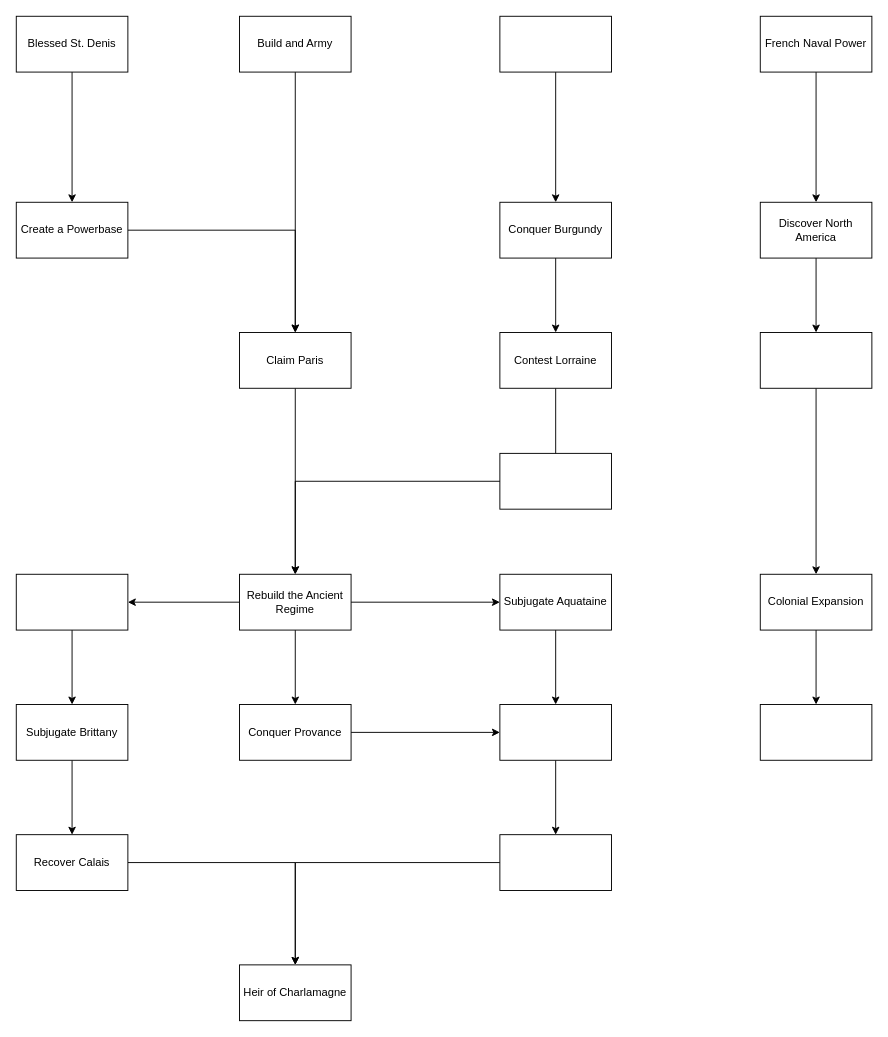
Image size: 888x1037. Some labels were removed from this diagram. The box of each missing label's shape, as (x1, y1, x2, y2) in pixels:
Annex Savoy: (499, 704, 611, 760)
Bases in North America: (759, 332, 872, 388)
Conquer Alsace: (499, 452, 611, 509)
Expand the State: (499, 15, 611, 72)
French East Indies: (759, 704, 872, 760)
Reclaim Normandy: (15, 573, 128, 630)
Spanish March: (499, 834, 611, 890)
